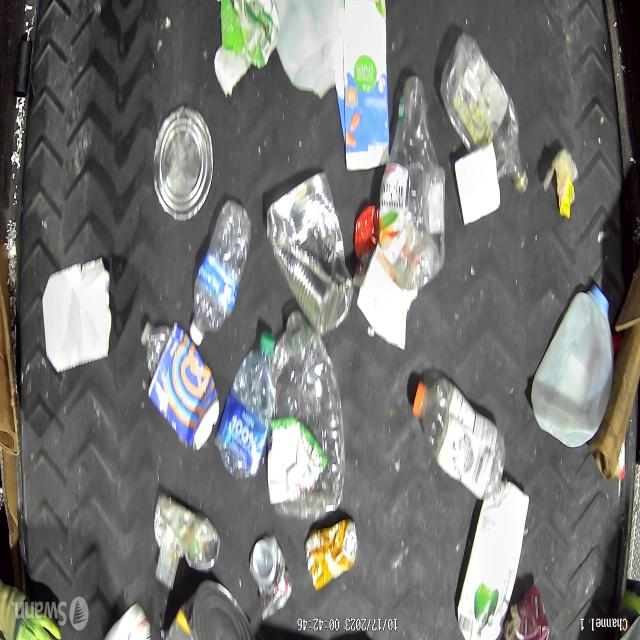can: (304, 517, 358, 593), (248, 533, 293, 623)
milk_jug: (530, 282, 614, 449), (273, 0, 346, 97)
plastic_bottle: (266, 310, 346, 527), (375, 70, 445, 293), (442, 35, 530, 198), (410, 374, 504, 502), (189, 204, 252, 346), (215, 337, 275, 482)
